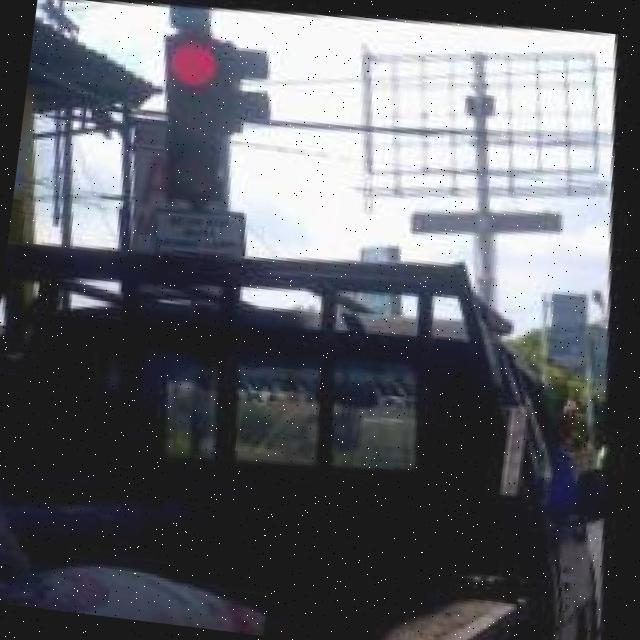red_light: (154, 21, 250, 201)
